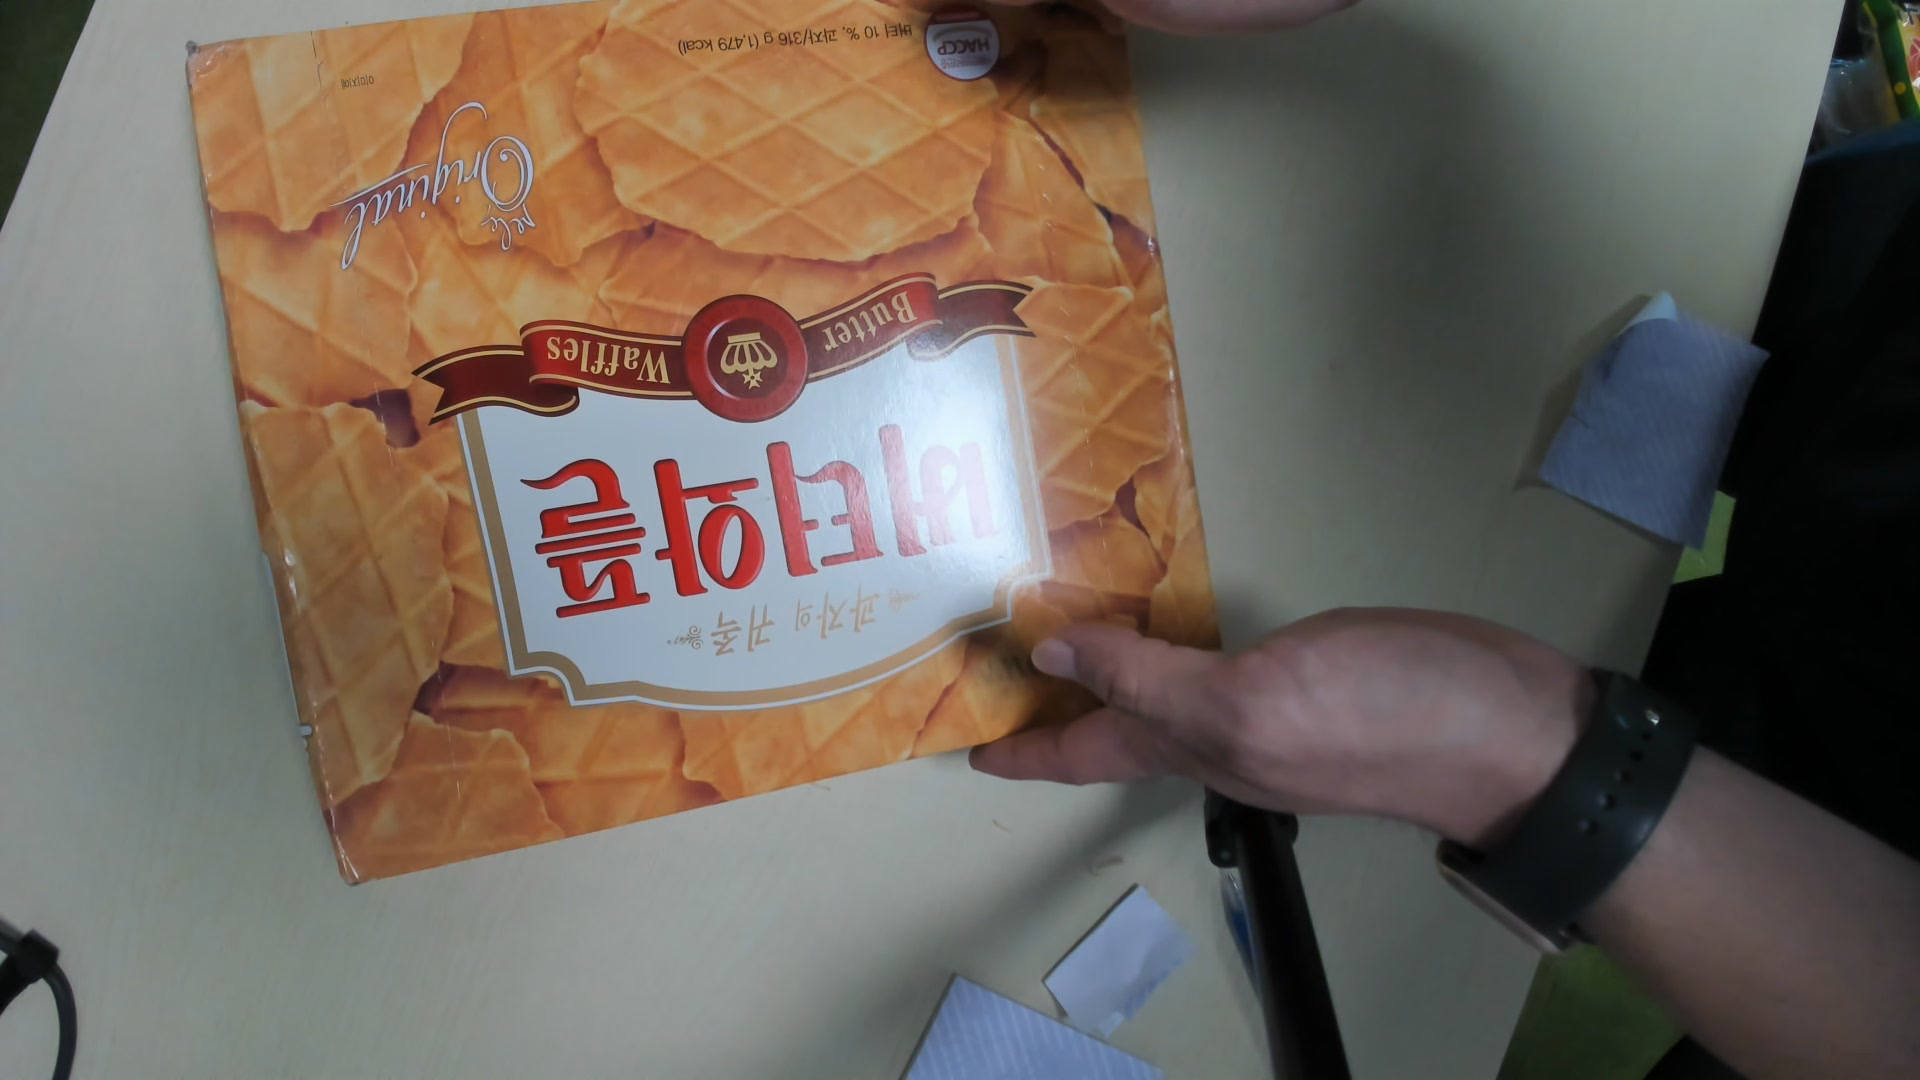BiscuitsCrackersCookies_300-399g_NonHalal_NonHealthy: (186, 15, 1229, 898)
